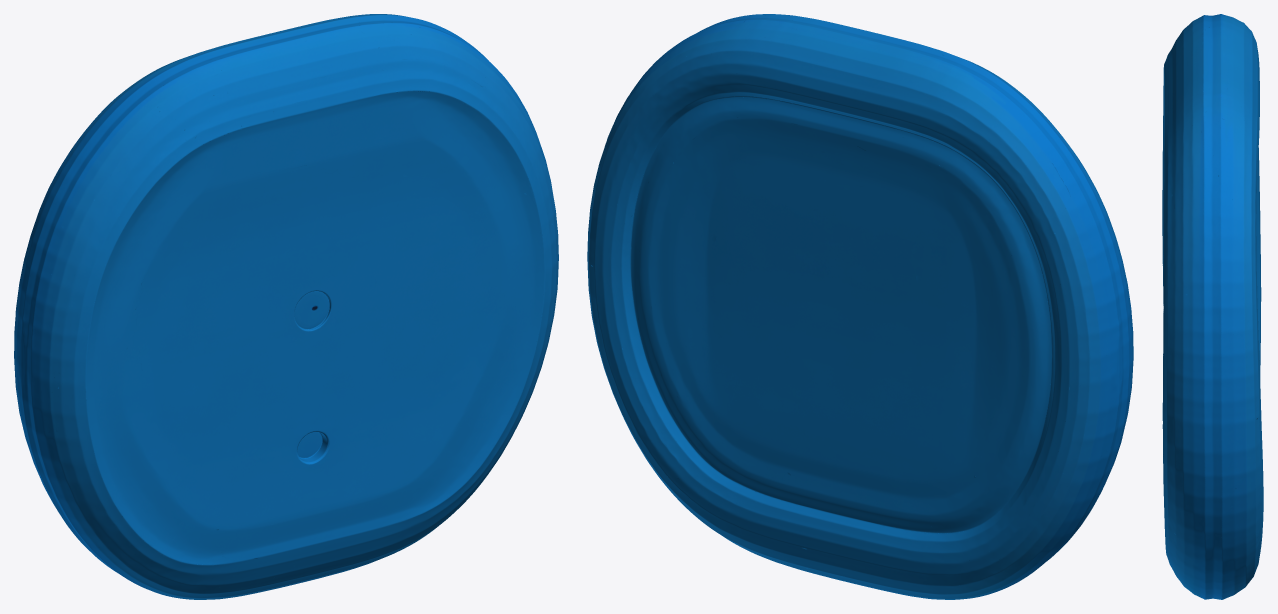
The model's file is arda.glb.
3 views of the same model, side by side, from view 1: azimuth 30°, elevation 25°; view 2: azimuth 150°, elevation 25°; view 3: azimuth 270°, elevation 25° (orthographic). The views are drawn at different scales.
Visible parts, largest first — view 1: texture_pbr_v128; view 2: texture_pbr_v128; view 3: texture_pbr_v128.
Part boxes in pixels (<box>): texture_pbr_v128: <box>14,14,558,599</box>; texture_pbr_v128: <box>587,14,1133,599</box>; texture_pbr_v128: <box>1162,14,1263,599</box>.
Size of the model in its own units: 1.11 by 1.11 by 0.204.
Materials: 1 (1 with a texture image).
